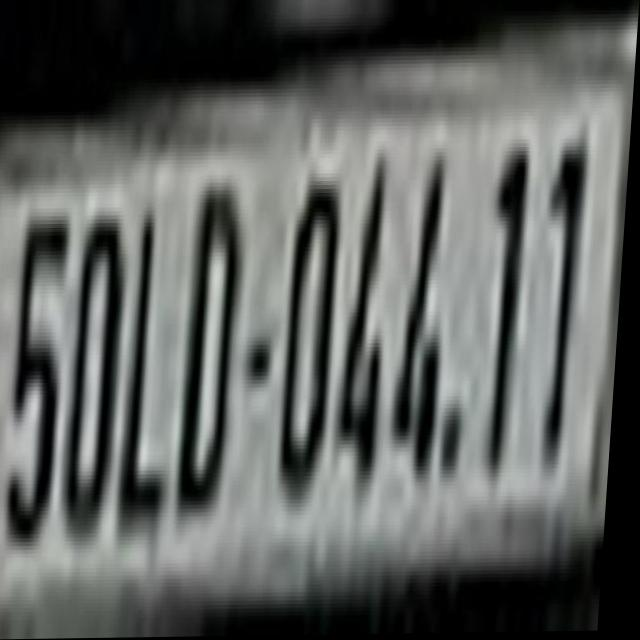0: (280, 159, 347, 508), (65, 192, 131, 546)
1: (534, 121, 597, 478), (480, 110, 539, 487)
4: (335, 127, 407, 512), (395, 142, 457, 507)
5: (9, 201, 77, 562)
D: (178, 163, 252, 533)
L: (121, 199, 193, 534)
